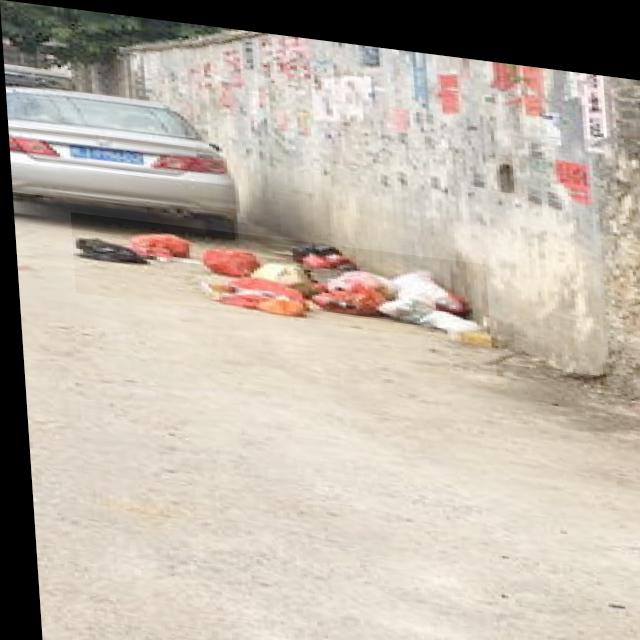garbage: (68, 211, 487, 333)
